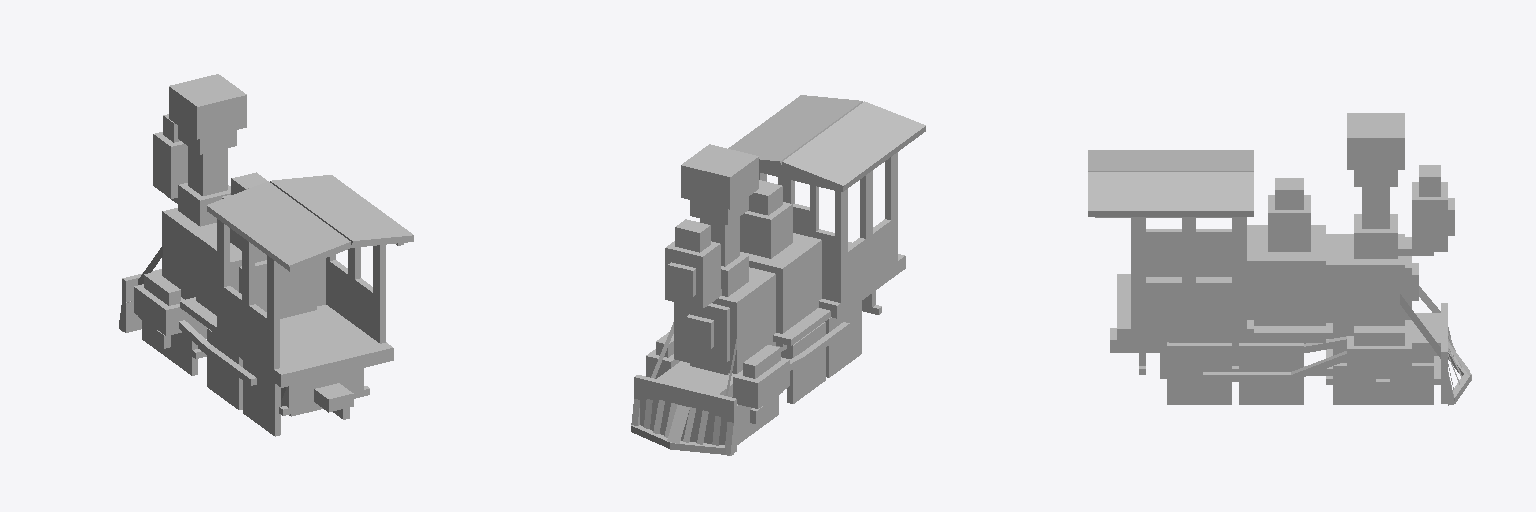
File: ModelLoco.obj
3 renders of one model, left to right at view 1: azimuth 30°, elevation 25°; view 2: azimuth 150°, elevation 25°; view 3: azimuth 270°, elevation 25°, orthographic.
Parts seen in each view (by area): view 1: frame, box49, box48, box18, box54, box30, box31, box15, box25, box57, box52, box8 (+14 smaller); view 2: box49, box15, box48, box18, box54, box, box30, box57, box55, box50, box24, box8 (+19 smaller); view 3: box48, box18, box15, box31, box28, box49, box30, box29, box54, bogey0, frame, box57 (+17 smaller).
Boxes of the visible parts, box(x1,y1,x2,y2) form: frame: box(213, 305, 393, 387); box49: box(207, 181, 351, 271); box48: box(270, 175, 413, 247); box18: box(196, 230, 316, 318); box54: box(169, 74, 246, 139); box30: box(217, 283, 279, 369); box31: box(326, 259, 385, 343); box15: box(162, 208, 216, 299); box25: box(243, 360, 280, 436); box57: box(153, 132, 187, 198); box52: box(188, 147, 227, 195); box8: box(134, 284, 190, 335); box49: box(781, 101, 925, 191); box15: box(674, 267, 775, 373); box48: box(728, 95, 862, 167); box18: box(740, 233, 821, 346); box54: box(681, 144, 758, 209); box: box(634, 375, 736, 452); box30: box(835, 216, 897, 302); box57: box(665, 241, 720, 308); box55: box(740, 202, 792, 258); box50: box(677, 303, 729, 361); box24: box(787, 322, 825, 403); box8: box(733, 357, 789, 408); box48: box(1088, 172, 1253, 216); box18: box(1247, 225, 1325, 325); box15: box(1326, 234, 1404, 335); box31: box(1131, 280, 1246, 328); box28: box(1167, 343, 1231, 404); box49: box(1088, 150, 1253, 171); box30: box(1146, 229, 1231, 276); box29: box(1239, 343, 1303, 404); box54: box(1347, 113, 1404, 169); bogey0: box(1333, 363, 1433, 404); frame: box(1117, 274, 1253, 341); box57: box(1412, 182, 1447, 251).
Size of the model in its own units: 1.26 by 2.5 by 3.33.